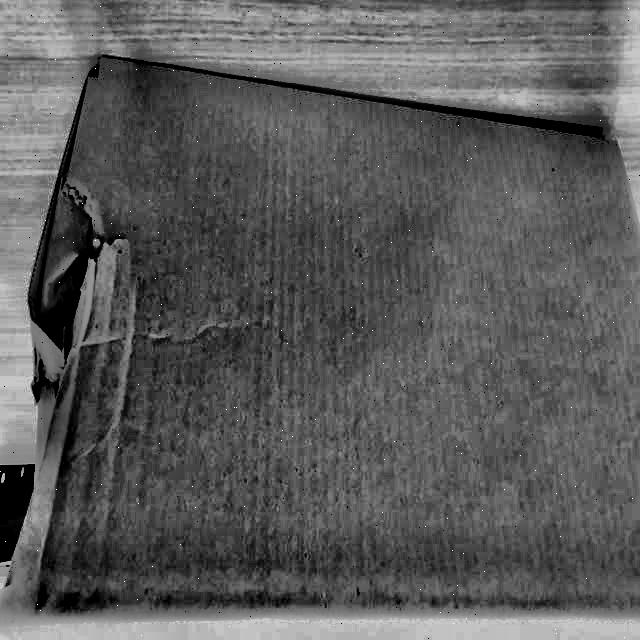box: (1, 43, 640, 640)
hole: (29, 169, 111, 463)
